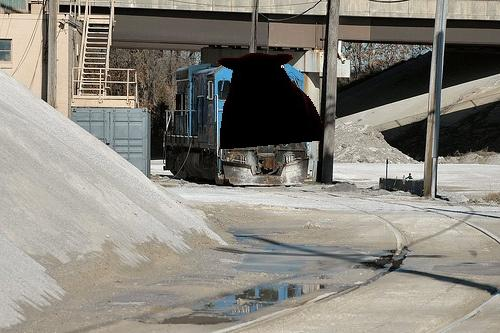tampered: (219, 54, 322, 149)
